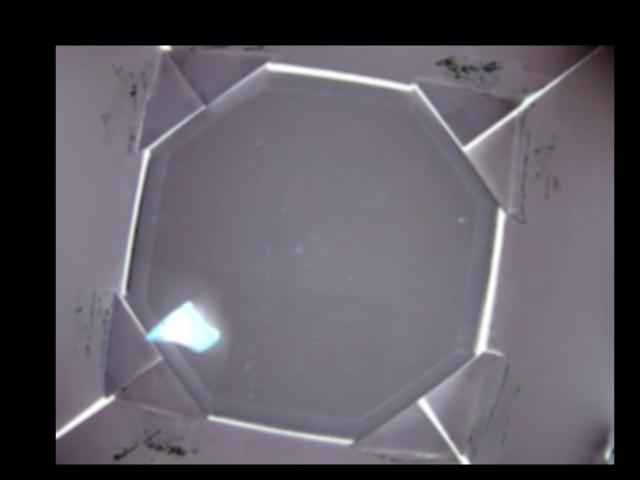Brisk: (143, 301, 220, 351)
